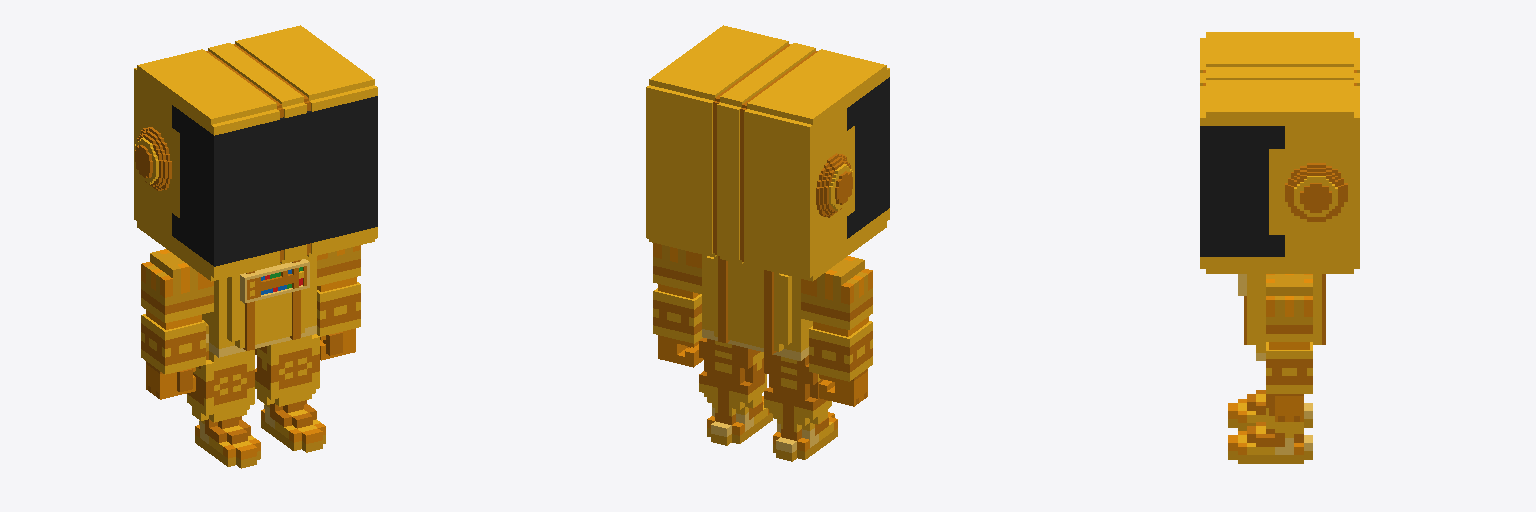
3 renders of one model, left to right at view 1: azimuth 30°, elevation 25°; view 2: azimuth 150°, elevation 25°; view 3: azimuth 270°, elevation 25°, orthographic.
Parts seen in each view (by area): view 1: object 1; view 2: object 1; view 3: object 1.
Boxes of the visible parts, x1=… form: object 1: x1=134, y1=25, x2=377, y2=468; object 1: x1=646, y1=25, x2=889, y2=461; object 1: x1=1200, y1=32, x2=1359, y2=463.
Bounding box in the file's own units: 7.2 × 12.9 × 5.1.
Materials: 1 (1 with a texture image).